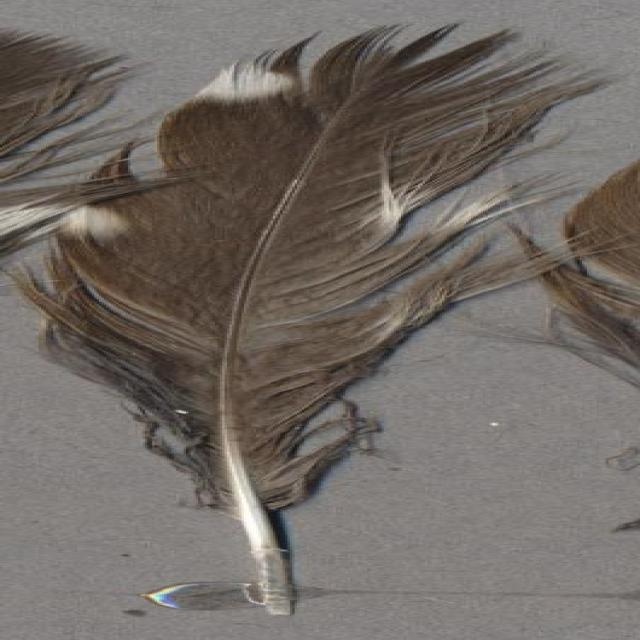feather: (24, 18, 640, 618)
